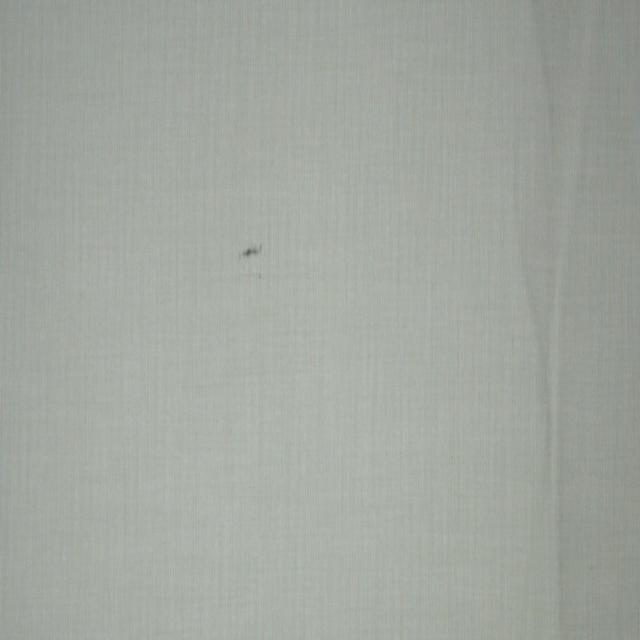dirty: (238, 244, 262, 256)
